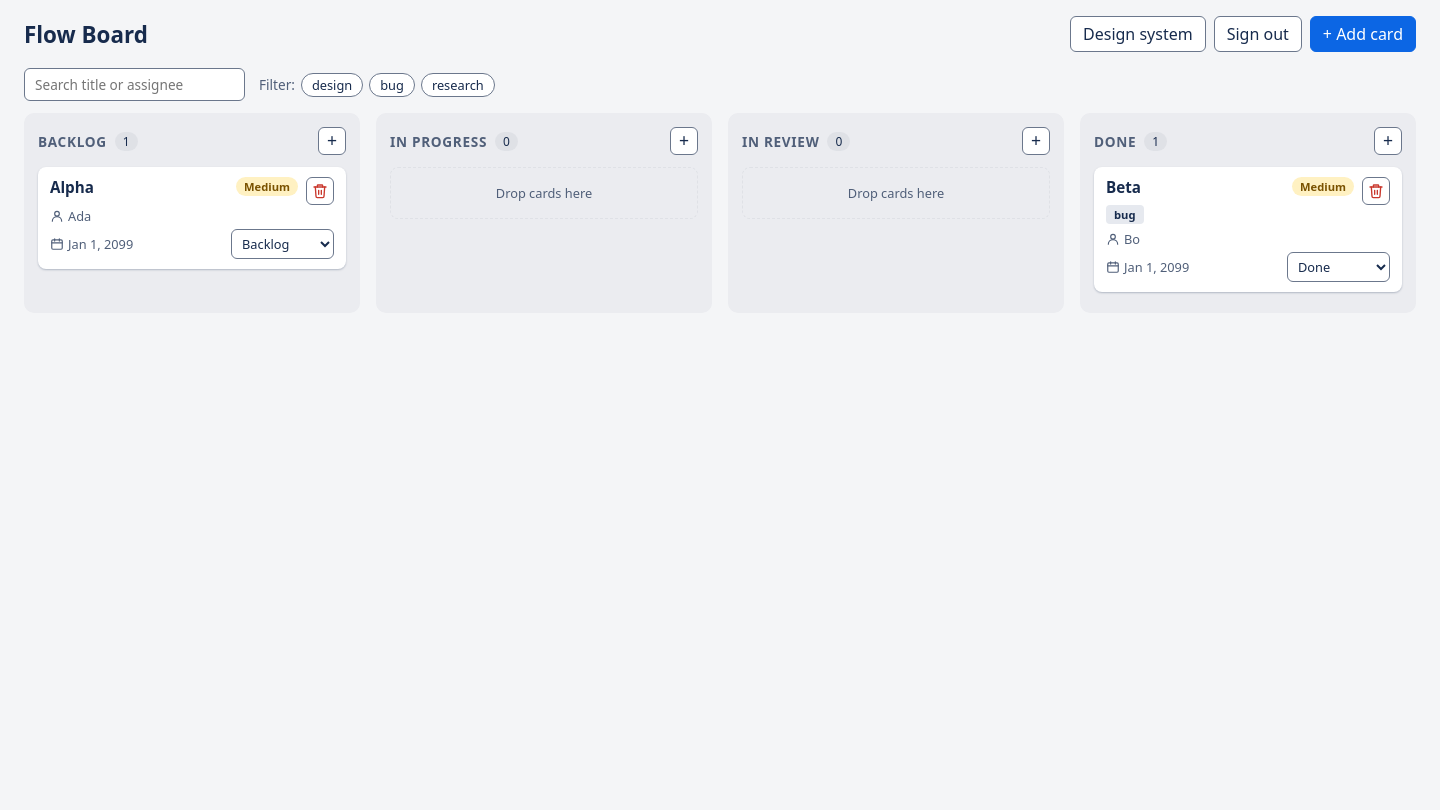
Test case: editing a card › opens prefilled, saves changes with an update, and updates the card in place
Click the button named "Edit \"Alpha\"" at x=72, y=187, box [50,177,94,197]
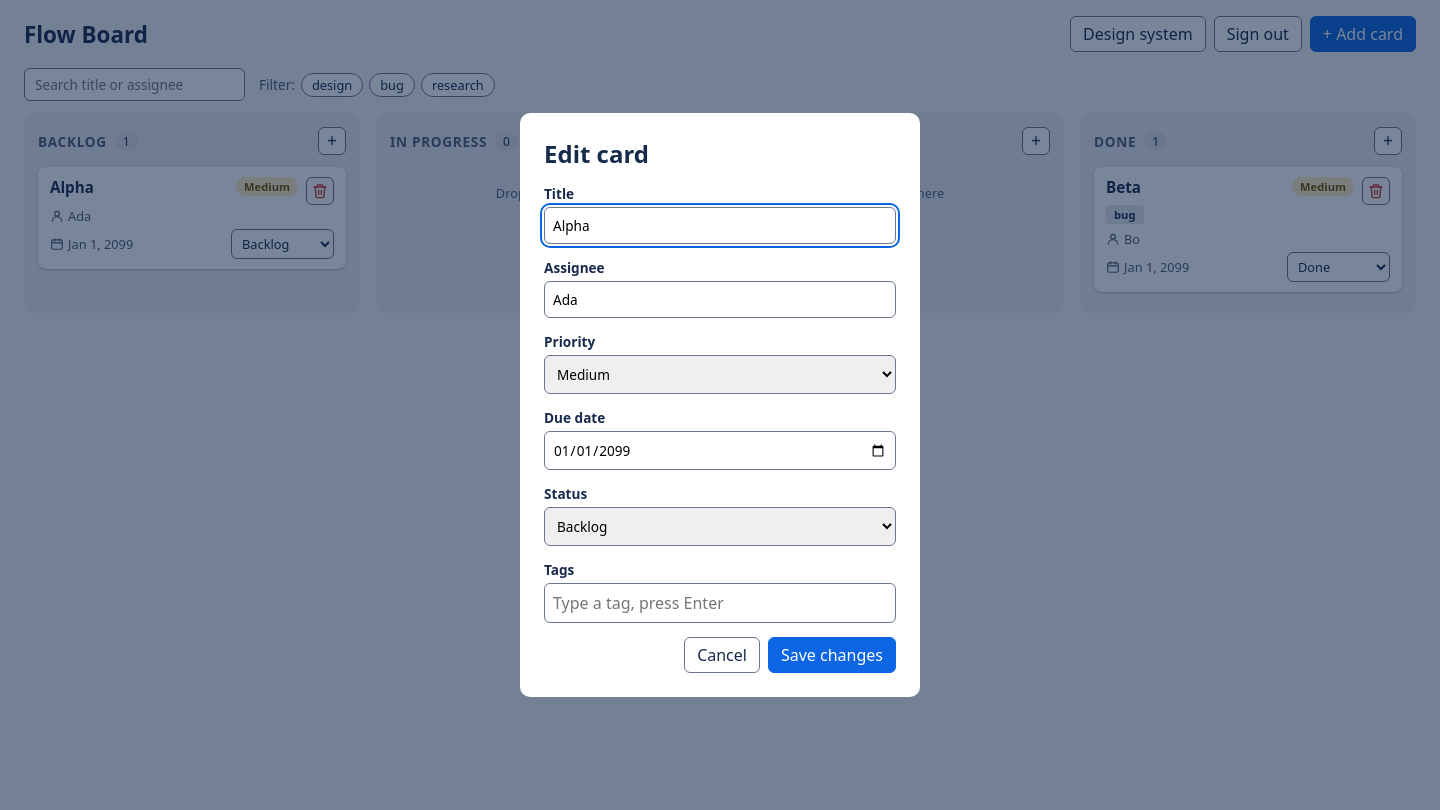
Now the field labelled "Title" holds "Alpha"
Replace the text in the field labelled "Title" with "Alpha v2" at x=720, y=226, box [544,207,896,244]
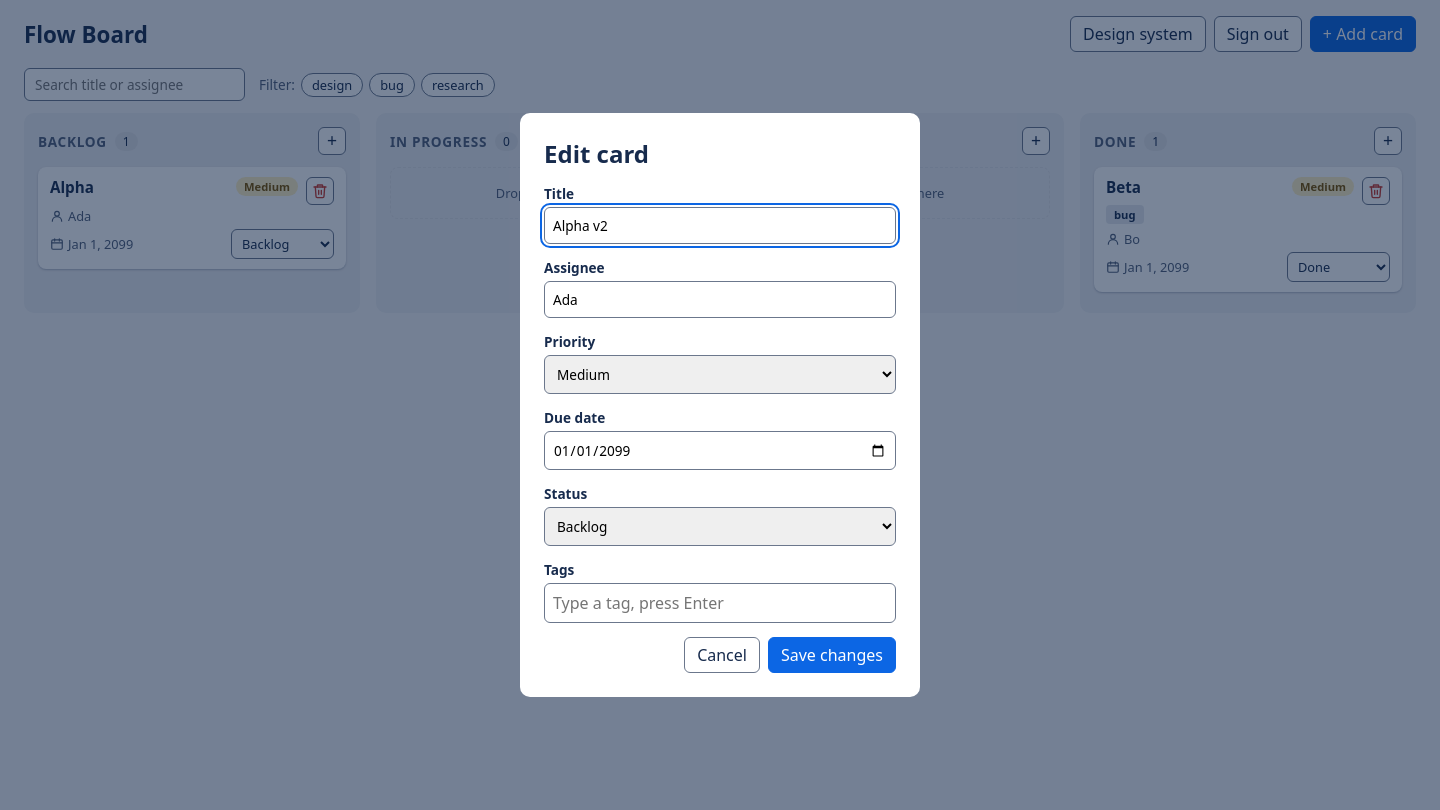
Click the button "Save changes" at x=832, y=655, box [768,637,896,673]
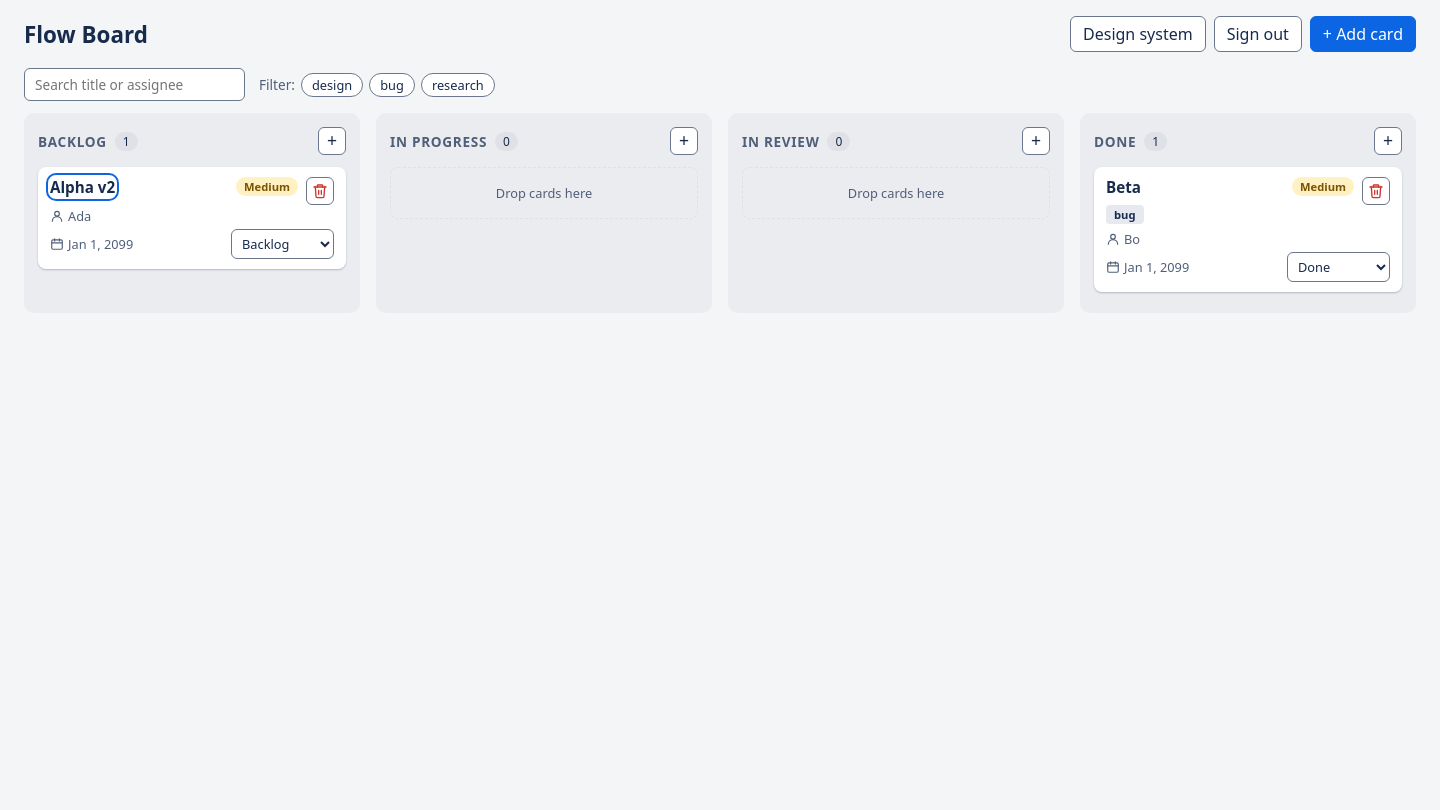
Now the dialog is gone
Now the button "Alpha v2" is shown, box [50,177,115,197]
